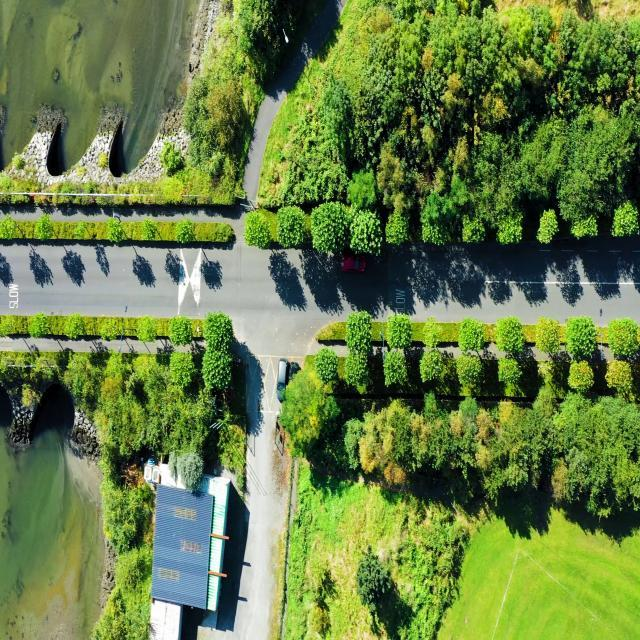vehicle: (276, 357, 288, 400), (341, 254, 366, 274), (288, 361, 298, 389), (112, 212, 120, 220)
